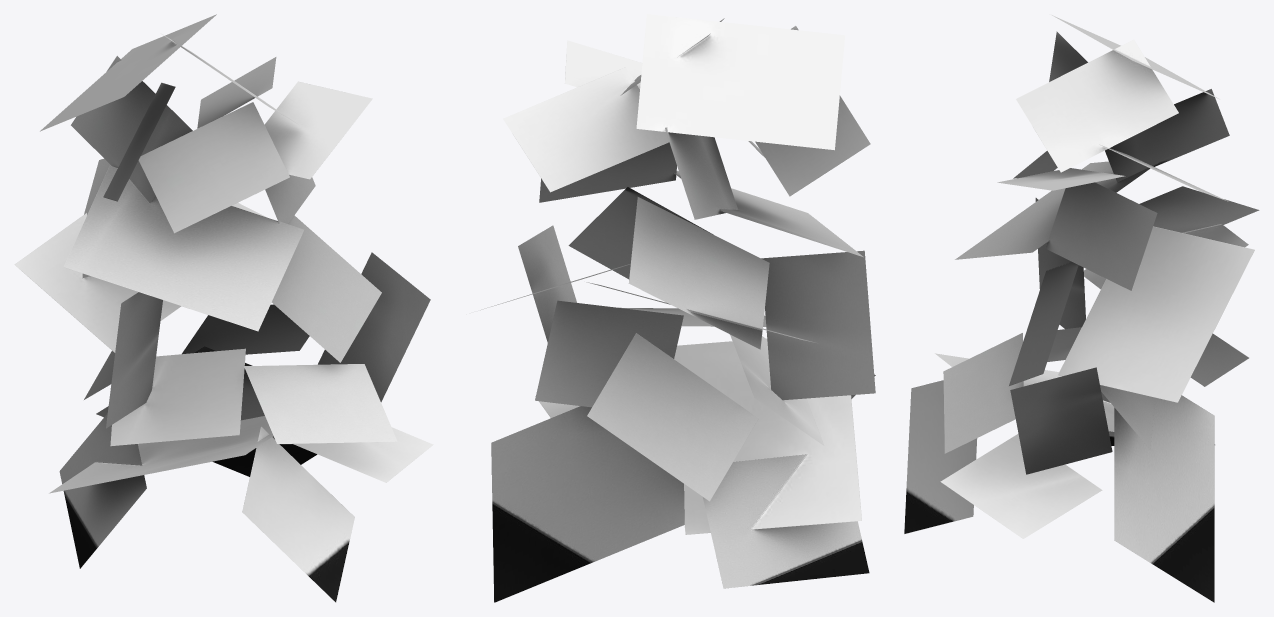
File: scene_polyfloor.fbx
3 renders of one model, left to right at view 1: azimuth 30°, elevation 25°; view 2: azimuth 150°, elevation 25°; view 3: azimuth 270°, elevation 25°, orthographic. The views are drawn at different scales.
Parts seen in each view (by area): view 1: scene_baked_pPlane12, scene_baked_pPlane20, scene_baked_pPlane5, scene_baked_pPlane2, scene_baked_pPlane10, scene_baked_pPlane16, scene_baked_pPlane11, scene_baked_pPlane4, scene_baked_pPlane17, scene_baked_pPlane13, scene_baked_pPlane19, scene_baked_pPlane7 (+8 smaller); view 2: scene_baked_pPlane3, scene_baked_pPlane22, scene_baked_pPlane7, scene_baked_pPlane6, scene_baked_pPlane8, scene_baked_pPlane4, scene_baked_pPlane15, scene_baked_pPlane18, scene_baked_pPlane9, scene_baked_pPlane21, scene_baked_pPlane19, scene_baked_pPlane16 (+6 smaller); view 3: scene_baked_pPlane14, scene_baked_pPlane3, scene_baked_pPlane24, scene_baked_pPlane25, scene_baked_pPlane11, scene_baked_pPlane23, scene_baked_pPlane5, scene_baked_pPlane2, scene_baked_pPlane19, scene_baked_pPlane12, scene_baked_pPlane16, scene_baked_pPlane15 (+10 smaller).
Boxes of the visible parts, x1,y1,x2,y2 form: scene_baked_pPlane12: (64,165,304,331); scene_baked_pPlane20: (138,102,289,233); scene_baked_pPlane5: (242,427,354,602); scene_baked_pPlane2: (244,364,397,443); scene_baked_pPlane10: (110,348,245,446); scene_baked_pPlane16: (271,215,381,362); scene_baked_pPlane11: (318,252,430,402); scene_baked_pPlane4: (59,413,146,568); scene_baked_pPlane17: (264,81,372,179); scene_baked_pPlane13: (14,213,181,352); scene_baked_pPlane19: (71,56,192,202); scene_baked_pPlane7: (106,292,162,428); scene_baked_pPlane3: (491,406,684,602); scene_baked_pPlane22: (636,14,845,150); scene_baked_pPlane7: (761,250,875,400); scene_baked_pPlane6: (674,338,861,534); scene_baked_pPlane8: (587,333,758,501); scene_baked_pPlane4: (702,454,869,588); scene_baked_pPlane15: (628,197,769,349); scene_baked_pPlane18: (503,67,669,192); scene_baked_pPlane9: (535,300,683,407); scene_baked_pPlane21: (755,26,870,196); scene_baked_pPlane19: (665,127,737,219); scene_baked_pPlane16: (568,187,713,279); scene_baked_pPlane14: (1058,226,1254,402); scene_baked_pPlane3: (1114,395,1214,602); scene_baked_pPlane24: (1016,39,1178,172); scene_baked_pPlane25: (940,433,1102,538); scene_baked_pPlane11: (1010,367,1112,474); scene_baked_pPlane23: (1045,182,1157,290); scene_baked_pPlane5: (904,380,977,533); scene_baked_pPlane2: (943,333,1023,453); scene_baked_pPlane19: (1105,89,1229,181); scene_baked_pPlane12: (955,161,1158,259); scene_baked_pPlane16: (1009,261,1078,385); scene_baked_pPlane15: (1139,186,1259,232).
Size of what is drawn, in the model's own units: 2.85 by 4.2 by 2.71.
24 materials, 24 textured.
